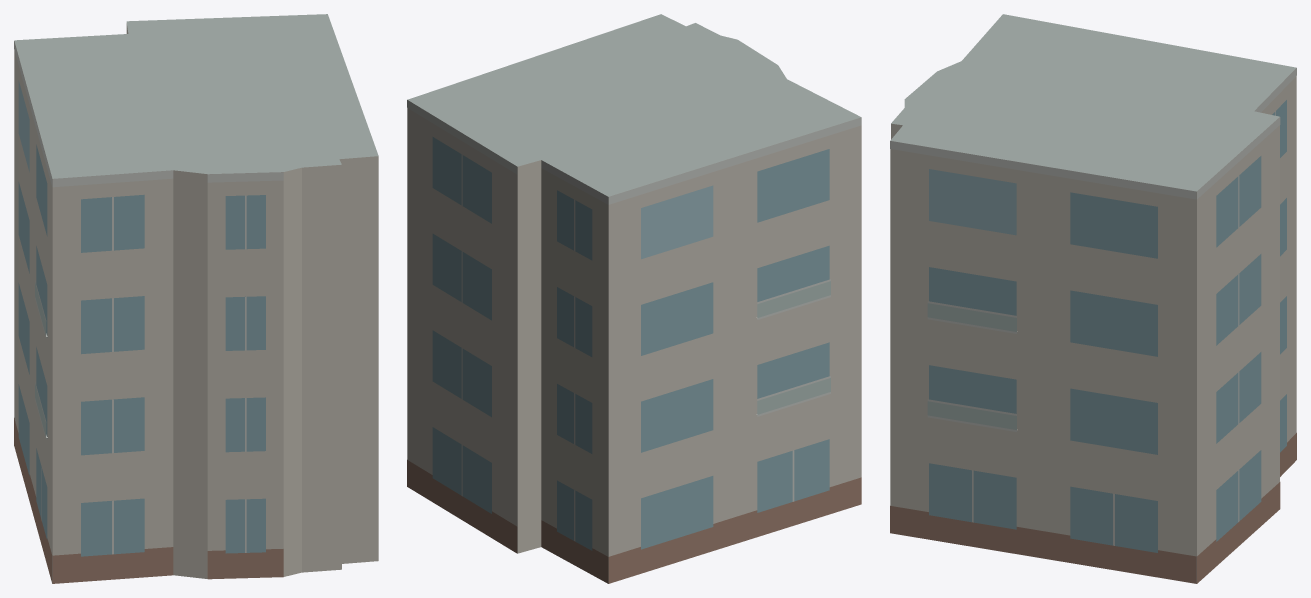
The model's file is survey-upis-32725449.glb.
The picture shows the model from 3 angles, left to right: view 1: azimuth 30°, elevation 25°; view 2: azimuth 150°, elevation 25°; view 3: azimuth 270°, elevation 25°; orthographic projection. The views are drawn at different scales.
Parts seen in each view (by area): view 1: survey-upis-32725449.tmp; view 2: survey-upis-32725449.tmp; view 3: survey-upis-32725449.tmp.
Boxes of the visible parts, bbox=[...] form: survey-upis-32725449.tmp: bbox=[14, 14, 378, 583]; survey-upis-32725449.tmp: bbox=[407, 14, 861, 583]; survey-upis-32725449.tmp: bbox=[890, 14, 1296, 583].
Size of the model in its own units: 11.36 by 11.7 by 10.99.
